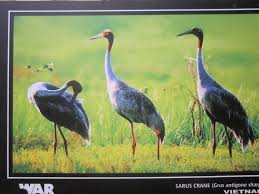seu_dau_do: (87, 28, 165, 159), (175, 26, 252, 153), (26, 79, 90, 158)
